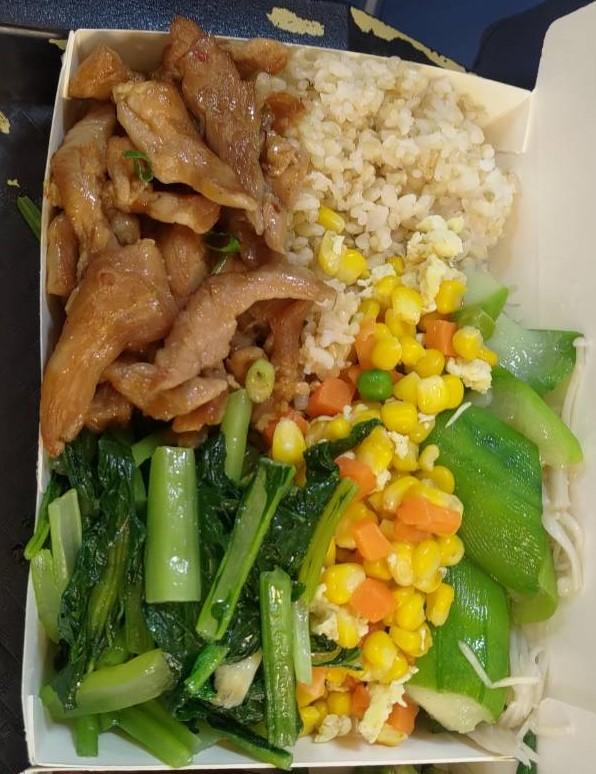big grilled chicken leg: (29, 12, 560, 774)
box: (299, 44, 511, 310)
braised fish fillet: (44, 434, 311, 749), (303, 285, 468, 741), (426, 300, 580, 736)
braised pork: (49, 22, 303, 440)
